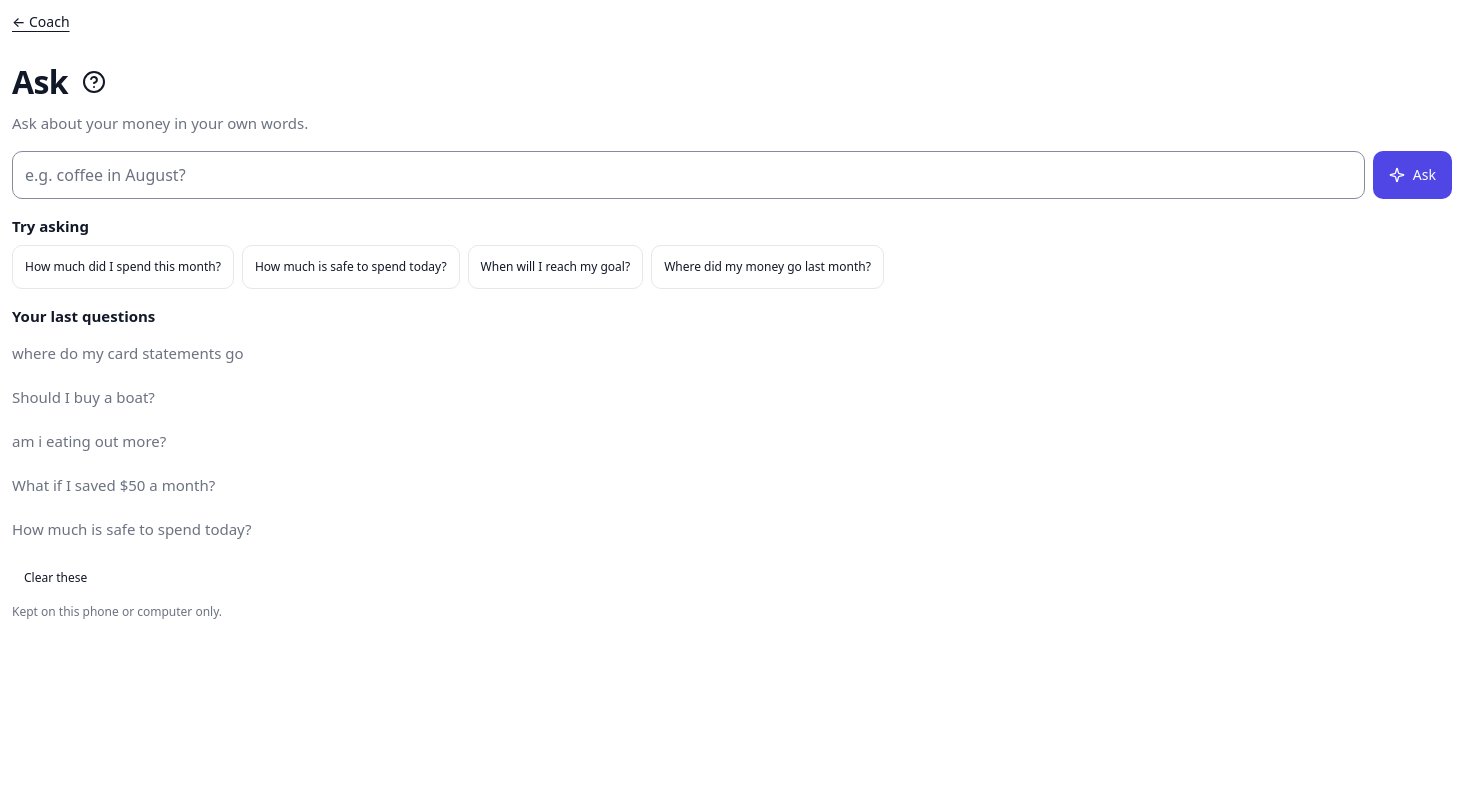
it: Ask fails soft › reads the question itself when the AI helper is not installed, pointing to One-time updates
In the field named "Your question": [688, 174] box left=12, top=150, right=1365, bottom=198, type "How much did I spend on dining out in August?"
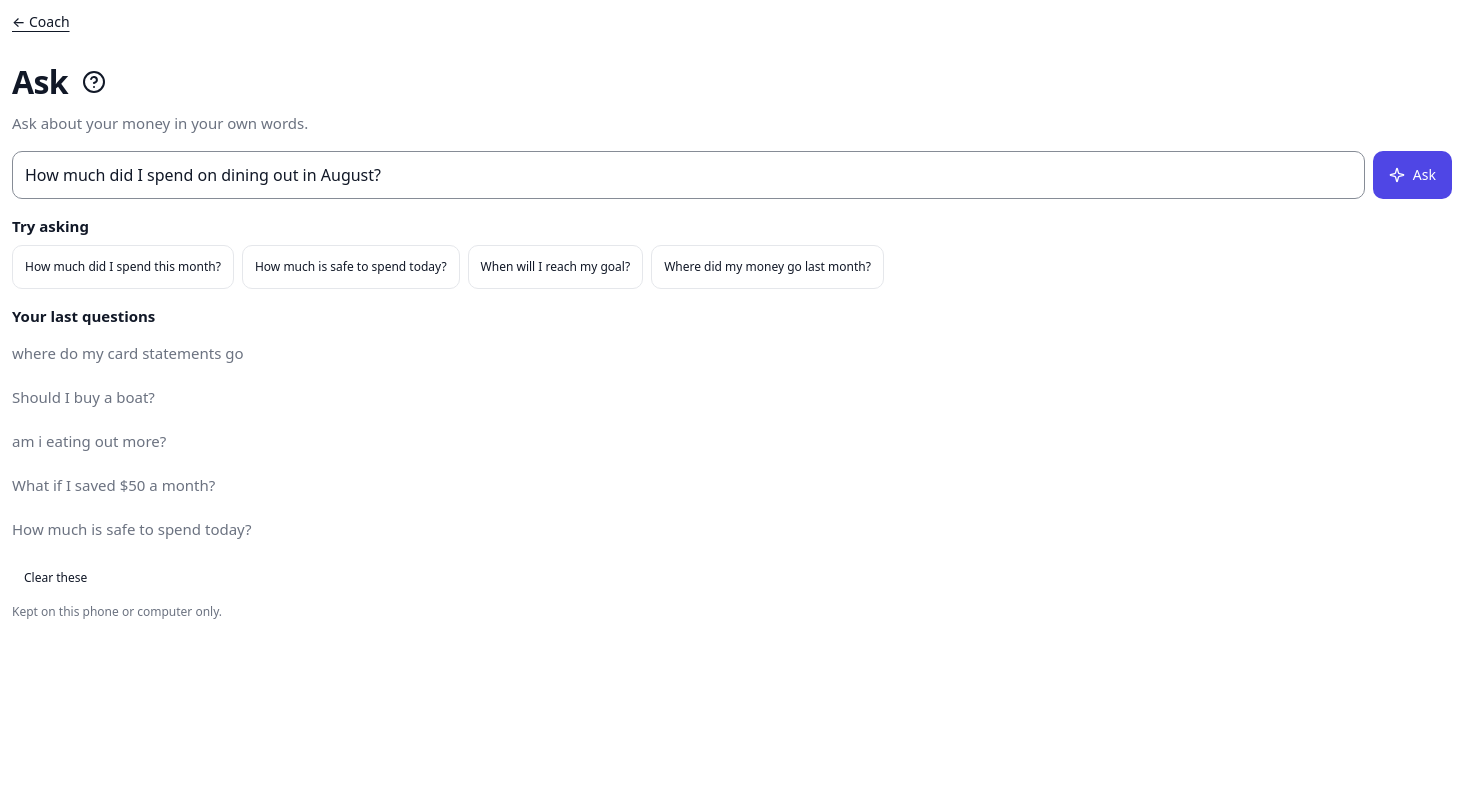
Click the button "Ask": [1412, 174] box left=1373, top=150, right=1452, bottom=198
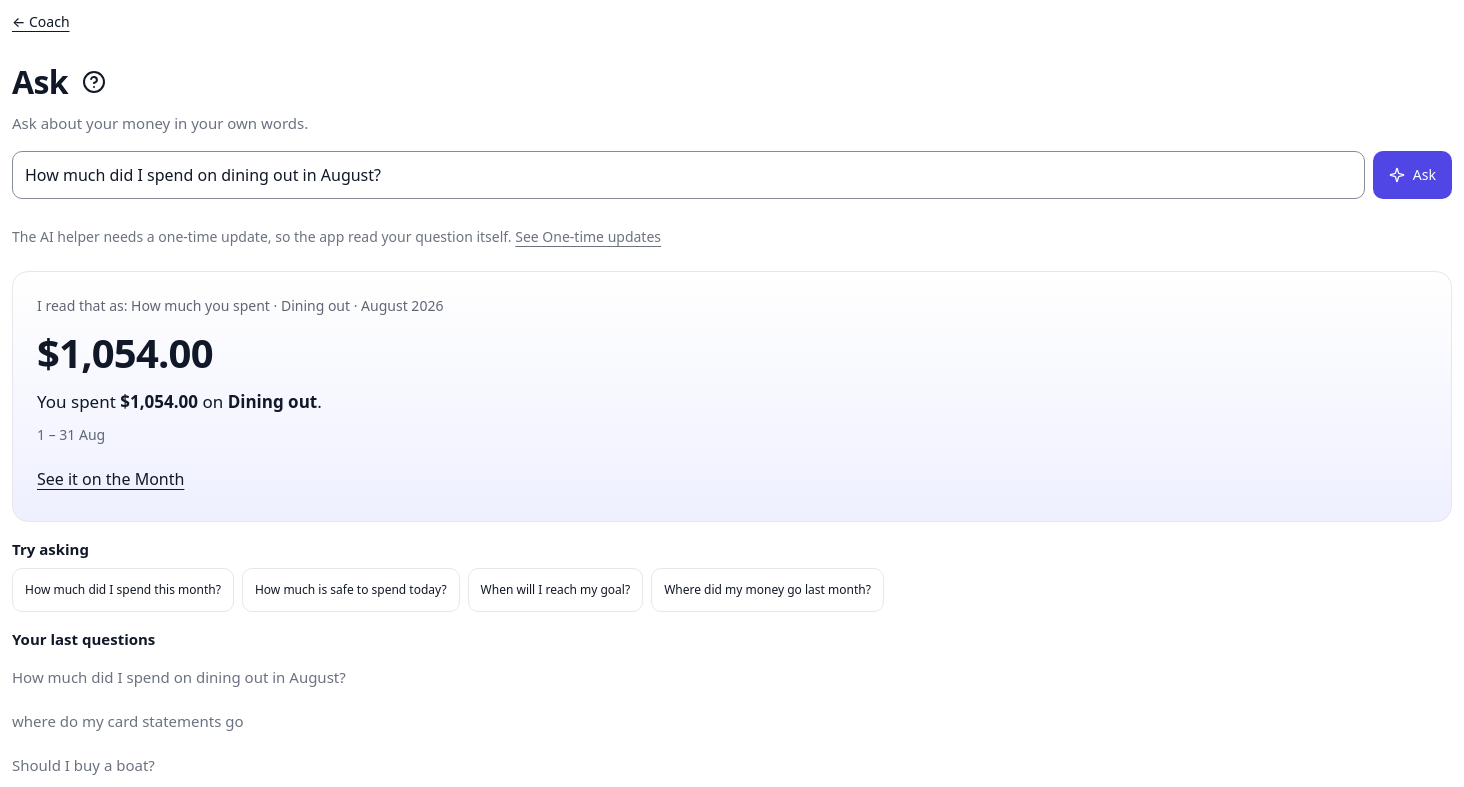
Now the element showing "You spent $1,054.00 on Dining out." is shown, box left=37, top=390, right=322, bottom=412
Now the text "The AI helper needs a one-time update, so the app read your question itself." is shown, box left=12, top=226, right=515, bottom=246
